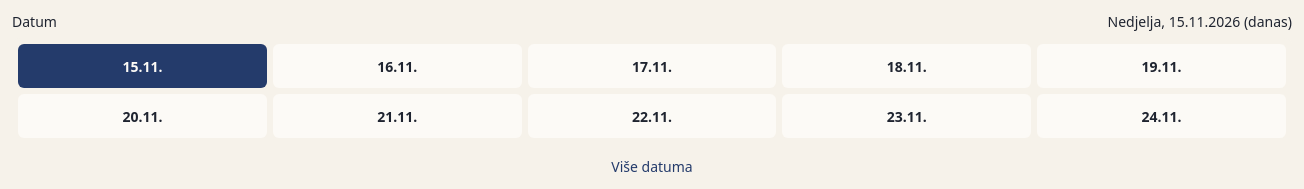
Scenario: DateSelectField › opens on two rows of five days and picks one with a click
Expected: the text "Nedjelja, 15.11.2026 (danas)" is shown, [1108,12,1292,32]
Click the button named "ponedjeljak, 16.11.2026" at (397, 66), box [273,44,522,88]
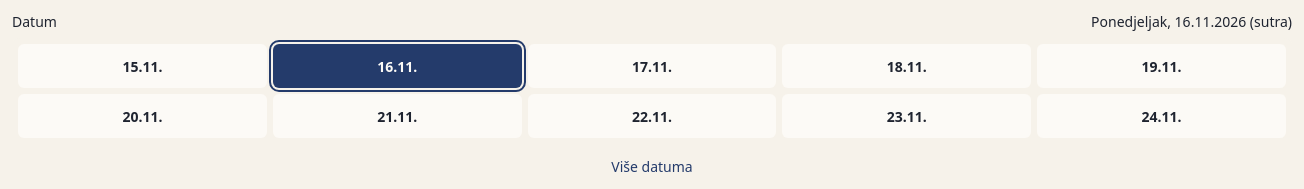
Result: the text "Ponedjeljak, 16.11.2026 (sutra)" is shown at [1091,12,1292,32]
